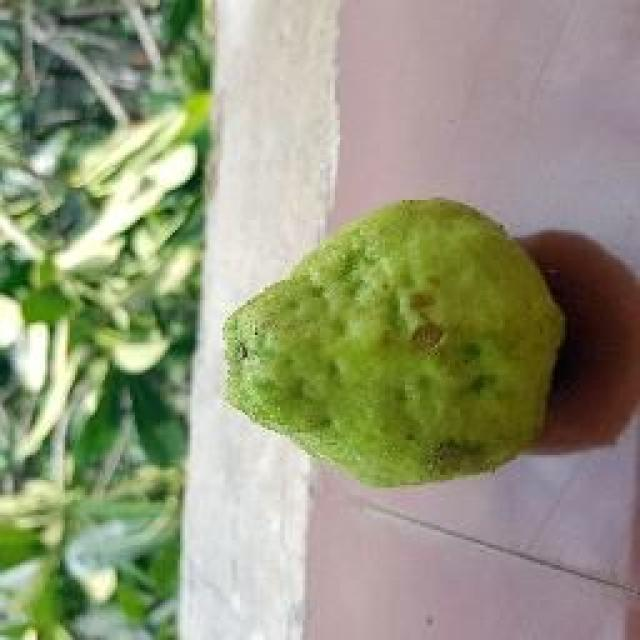Good_Guava: (222, 198, 568, 490)
